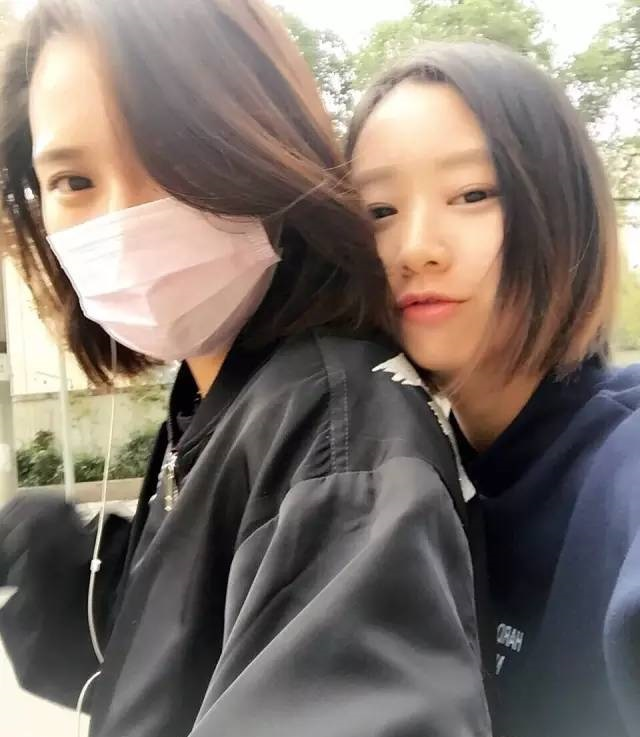face: (351, 83, 524, 373)
face_mask: (32, 47, 264, 364)
